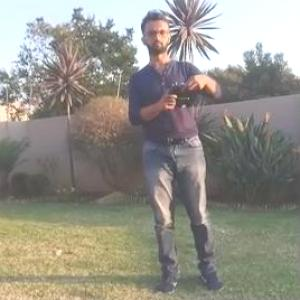follow: (124, 2, 229, 294)
